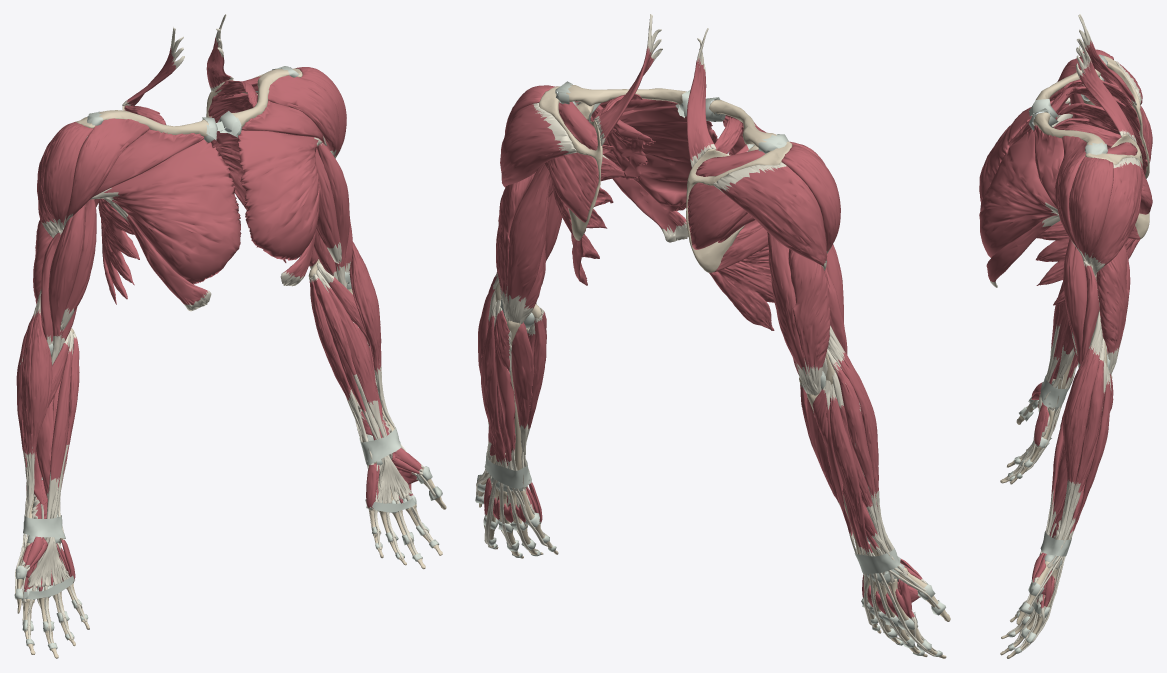
The model's file is upper.glb.
The picture shows the model from 3 angles, left to right: view 1: azimuth 30°, elevation 25°; view 2: azimuth 150°, elevation 25°; view 3: azimuth 270°, elevation 25°; orthographic projection. The views are drawn at different scales.
Visible parts, largest first — view 1: za-33f3d0951bf3, za-ef066e3635be, za-2d3c7dfd5f1b, za-bc88f0f42d61, za-dfbfb9194982, za-9c0235353a40, za-08403f159fbf, za-9ac365e0905b, za-50e681ac8f51, za-d9c040c64900, za-a7d56735891a, za-507137502558 (+26 smaller); view 2: za-3d3652cd3db0, za-ef066e3635be, za-13175c41cad9, za-08403f159fbf, za-0378b861a51b, za-8969933cb597, za-f4ebdfd665b7, za-53d11d3111ff, za-2b9227516bdc, za-3eade513dbf4, za-dfbfb9194982, za-87ff24e3a85d (+25 smaller); view 3: za-ef066e3635be, za-b74d57488ced, za-507137502558, za-0378b861a51b, za-71505881f936, za-08403f159fbf, za-a7d56735891a, za-e51b14c43b3f, za-0de3145162a4, za-50e681ac8f51, za-2f540439b2b3, za-33f3d0951bf3 (+25 smaller).
Boxes of the visible parts, x1,y1,x2,y2 form: za-33f3d0951bf3: (90,139,241,284); za-ef066e3635be: (238,130,322,260); za-2d3c7dfd5f1b: (21,289,52,517); za-bc88f0f42d61: (63,118,149,229); za-dfbfb9194982: (41,122,93,231); za-9c0235353a40: (48,204,85,365); za-08403f159fbf: (98,105,166,304); za-9ac365e0905b: (92,129,204,197); za-50e681ac8f51: (268,75,339,156); za-d9c040c64900: (313,273,412,503); za-a7d56735891a: (208,80,300,262); za-507137502558: (349,241,395,428); za-3d3652cd3db0: (713,162,827,270); za-ef066e3635be: (603,106,717,211); za-13175c41cad9: (504,164,551,323); za-08403f159fbf: (709,117,774,330); za-0378b861a51b: (500,102,576,187); za-8969933cb597: (788,249,830,395); za-f4ebdfd665b7: (830,384,930,651); za-53d11d3111ff: (481,302,547,551); za-2b9227516bdc: (767,232,818,394); za-3eade513dbf4: (687,182,747,249); za-dfbfb9194982: (781,144,840,253); za-87ff24e3a85d: (548,152,598,222); za-ef066e3635be: (979,129,1058,257); za-b74d57488ced: (1069,156,1113,264); za-507137502558: (1057,310,1102,539); za-0378b861a51b: (1091,157,1142,275); za-71505881f936: (1096,245,1129,375); za-08403f159fbf: (1053,79,1147,174); za-a7d56735891a: (1035,123,1140,305); za-e51b14c43b3f: (1063,239,1087,367); za-0de3145162a4: (1055,339,1104,569); za-50e681ac8f51: (1054,136,1086,261); za-2f540439b2b3: (1076,38,1136,143); za-33f3d0951bf3: (979,97,1070,202).
Bounding box in the file's own units: 0.6692 × 0.8407 × 0.2433.
